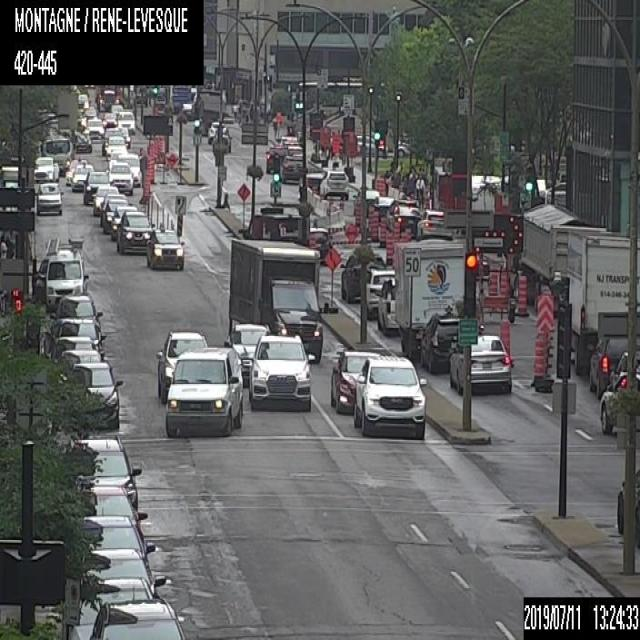construction: (530, 285, 554, 392), (141, 112, 171, 154), (237, 180, 249, 231), (514, 272, 527, 315), (497, 317, 510, 353), (323, 246, 340, 267), (499, 268, 511, 294), (345, 220, 358, 243), (487, 267, 498, 294), (385, 231, 394, 262), (370, 209, 379, 240), (378, 214, 386, 246), (376, 175, 386, 196), (332, 131, 340, 157), (147, 153, 154, 182), (143, 170, 150, 196), (393, 220, 400, 240), (158, 134, 164, 156), (152, 137, 158, 159), (167, 151, 176, 164)
pedestrian: (414, 175, 424, 203)
vehicle: (227, 238, 329, 365), (567, 230, 639, 374), (520, 201, 606, 304), (393, 240, 464, 360), (164, 346, 243, 436), (352, 354, 427, 439), (69, 576, 158, 638), (248, 332, 316, 412), (63, 434, 137, 505), (78, 547, 169, 595), (74, 514, 152, 568), (157, 328, 210, 404), (448, 333, 512, 395), (88, 600, 188, 638), (66, 361, 120, 428), (328, 349, 382, 413), (586, 333, 639, 394), (76, 484, 148, 528), (45, 238, 85, 308), (225, 324, 269, 387), (419, 312, 464, 373), (599, 369, 639, 434), (340, 249, 384, 303), (58, 350, 106, 397), (146, 223, 184, 269), (116, 210, 156, 253), (618, 465, 639, 546), (48, 337, 98, 369), (49, 318, 101, 348), (365, 267, 394, 317), (55, 294, 100, 322), (374, 278, 396, 334), (415, 208, 452, 241), (41, 134, 71, 174), (387, 201, 421, 233), (109, 205, 138, 239), (320, 168, 350, 200), (102, 198, 128, 234), (35, 181, 62, 214), (83, 170, 109, 204), (92, 184, 119, 216), (107, 161, 133, 193), (116, 152, 140, 186), (70, 162, 95, 190), (280, 151, 301, 184), (32, 154, 58, 180), (266, 144, 288, 174), (298, 169, 322, 194), (101, 128, 119, 156), (117, 107, 136, 133), (105, 134, 126, 156), (208, 121, 231, 141), (86, 115, 105, 138), (212, 133, 230, 152), (74, 132, 91, 152), (117, 126, 130, 148), (102, 111, 116, 127), (279, 136, 296, 149), (354, 189, 362, 215)
